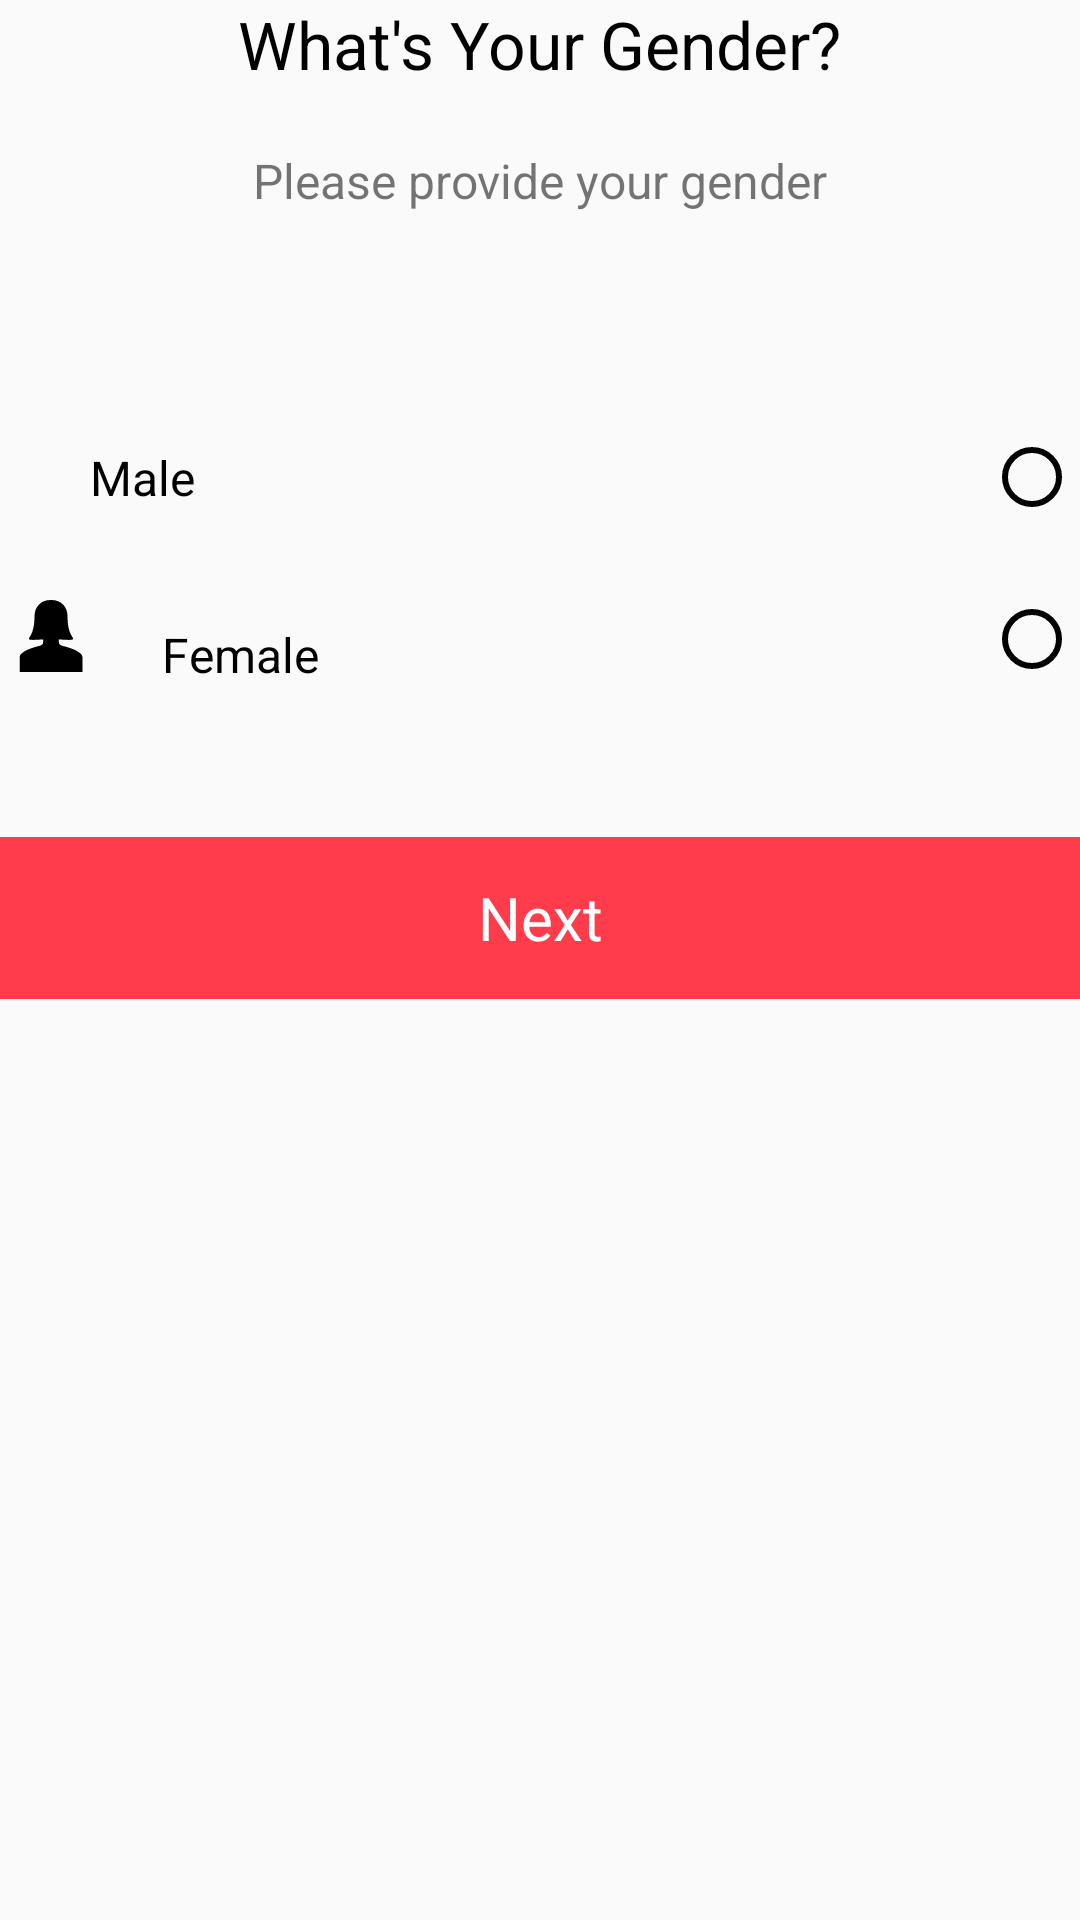

Where icons sit on this 1080x1920 app screen, as rect(x1, y1, x2, y2):
woman sign up: rect(19, 600, 83, 672)
